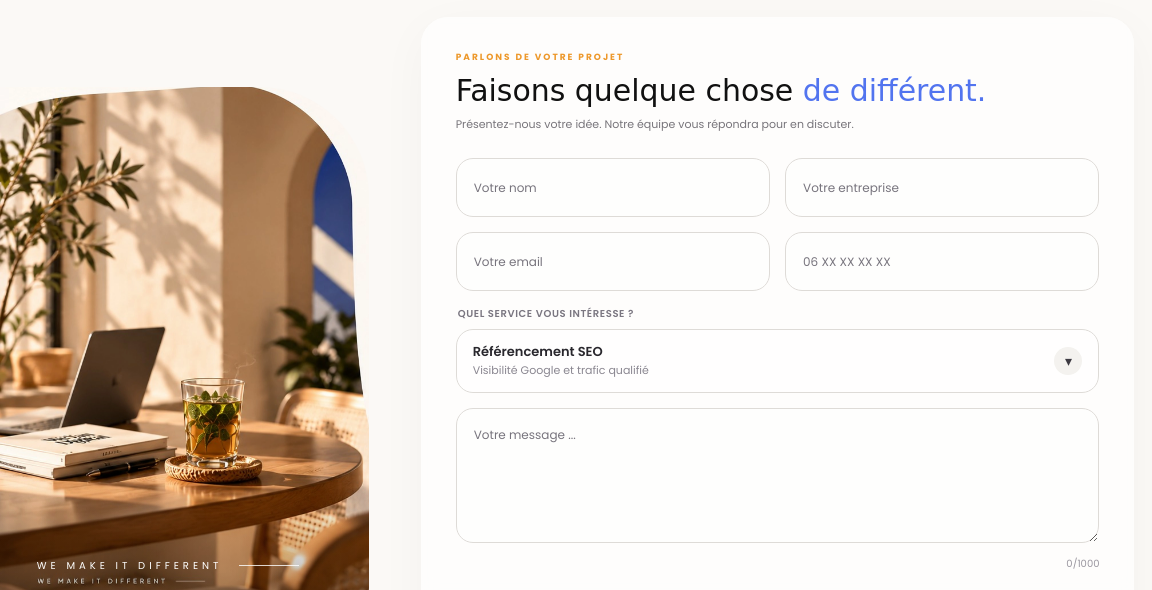
Scenario: ContactPage › envoie le message et affiche la confirmation
Type "  Sara " into the field with placeholder "Votre nom" at (613, 188), box x1=456 y1=158 x2=770 y2=217
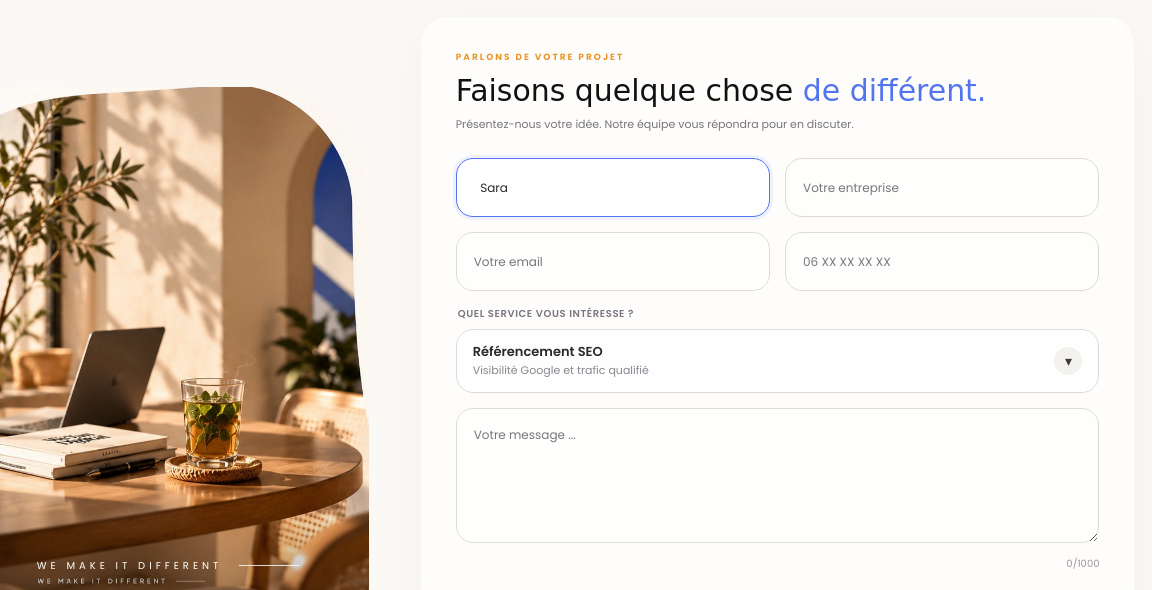
Type "sara@example.com" into the field with placeholder "Votre email" at (613, 262), box x1=456 y1=232 x2=770 y2=291
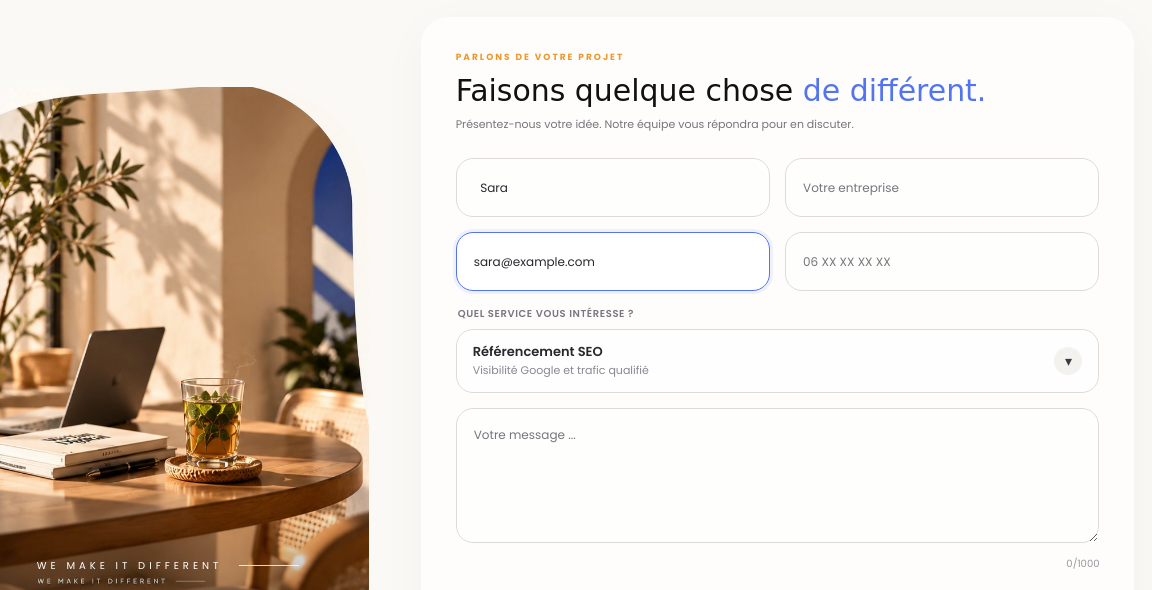
Type "Bonjour" into the text box with placeholder "Votre message ..." at (778, 476), box x1=456 y1=408 x2=1099 y2=543
(page scrolled)
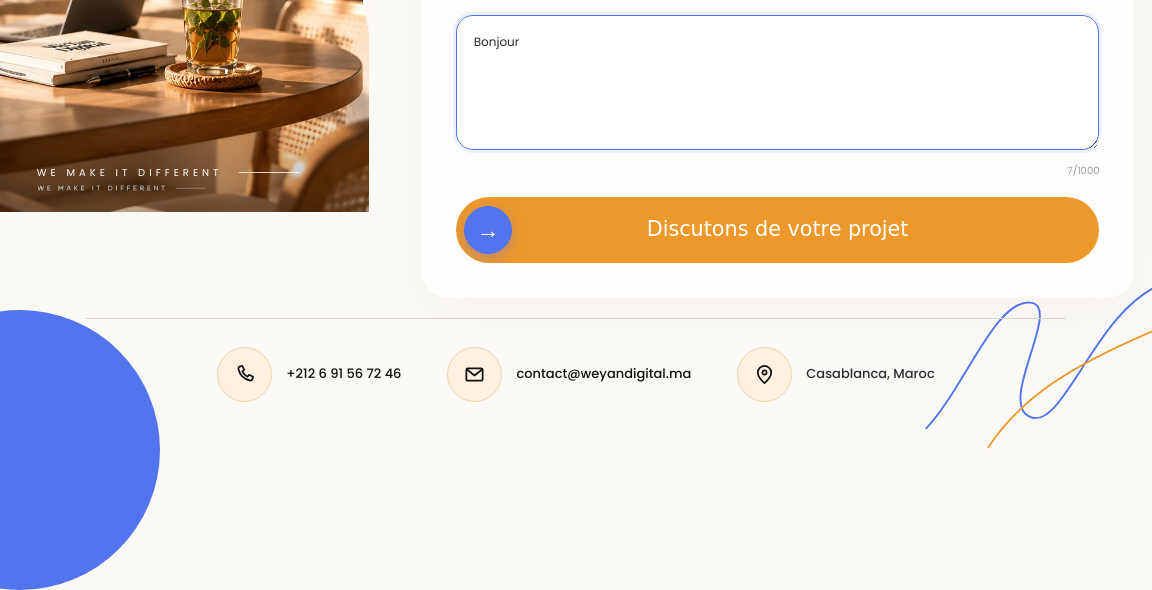
Press Enter in the button named "glisser vers la droite", box x1=464 y1=206 x2=512 y2=254
(page scrolled)
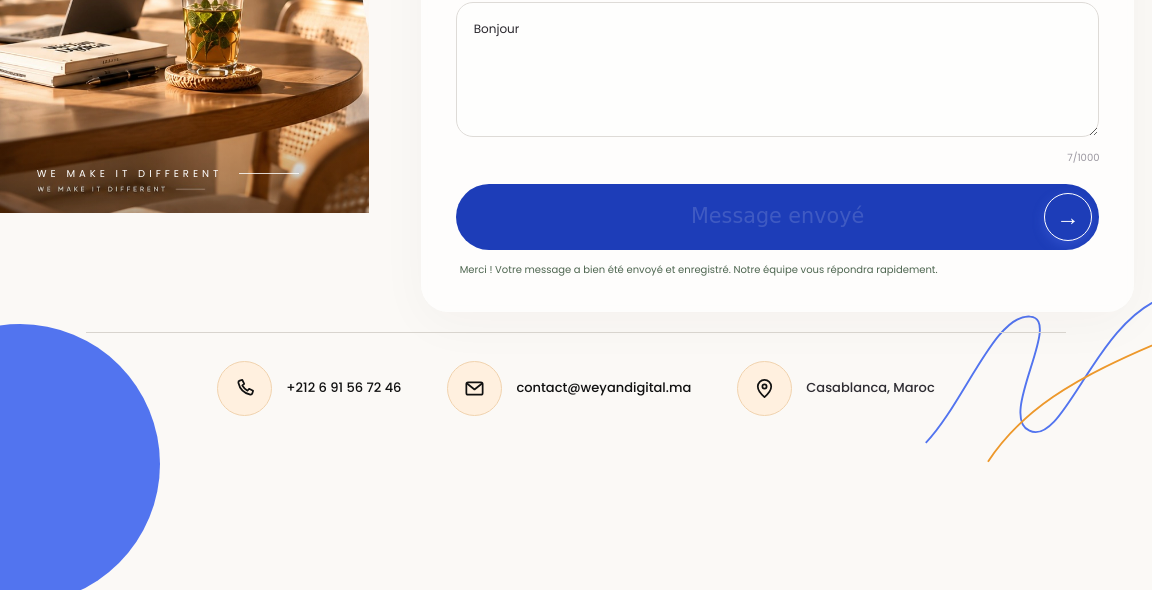
Expected: the message shows "bien été envoyé", x1=460 y1=262 x2=938 y2=277
